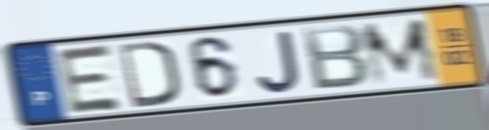6: (186, 35, 242, 101)
B: (299, 22, 372, 93)
D: (115, 38, 181, 110)
E: (54, 41, 127, 116)
J: (254, 28, 304, 95)
M: (356, 15, 443, 89)
